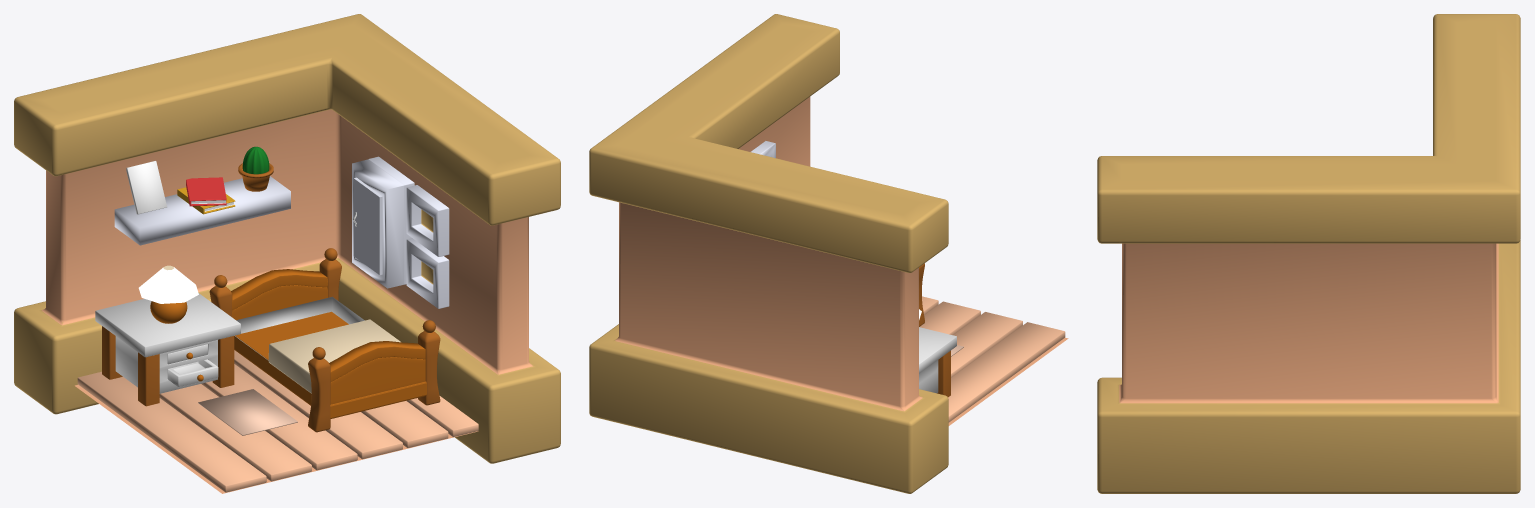
Rendered from 3D_Isometric_BEDROOM.gltf.
3 views of the same model, side by side, from view 1: azimuth 30°, elevation 25°; view 2: azimuth 150°, elevation 25°; view 3: azimuth 270°, elevation 25° (orthographic). The views are drawn at different scales.
Parts seen in each view (by area): view 1: Cube, Plane.001, Cube.001, Plane.008, Plane.003, Cube.002, Plane.002, Plane.004, Plane.006, Plane.009, Plane.011, Cube.005 (+6 smaller); view 2: Cube, Plane.001, Plane.008, Plane.009; view 3: Cube.
Part boxes in pixels (x1,y1,x2,y2): Cube: (14, 14, 560, 463); Plane.001: (77, 350, 478, 492); Cube.001: (352, 156, 449, 308); Plane.008: (95, 293, 240, 393); Plane.003: (231, 269, 425, 404); Cube.002: (114, 176, 290, 245); Plane.002: (234, 311, 426, 418); Plane.004: (209, 248, 440, 432); Plane.006: (268, 319, 400, 393); Plane.009: (102, 326, 234, 406); Plane.011: (198, 389, 297, 435); Cube.005: (353, 177, 382, 274); Cube: (589, 14, 948, 493); Plane.001: (919, 296, 1065, 422); Plane.008: (919, 327, 956, 393); Plane.009: (937, 350, 950, 397); Cube: (1097, 14, 1520, 493).
Size of the model in its own units: 2.52 by 2 by 2.52.
